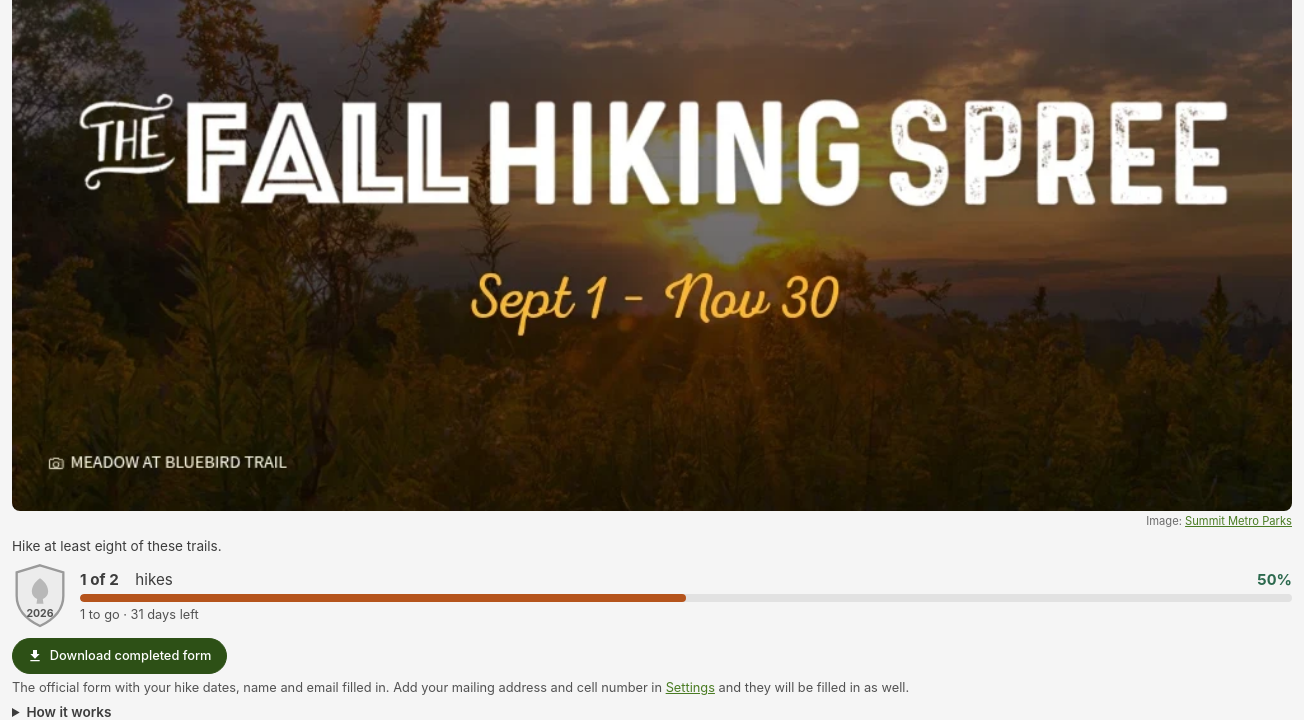
ListChallenge › the completed form › says so, and saves nothing, when earlier years cannot be loaded
(page scrolled)
What coordinates should you click on to do the following:
click the button "Download completed form"
I would click on:
 (119, 656)
Its box is [12,638,227,674].
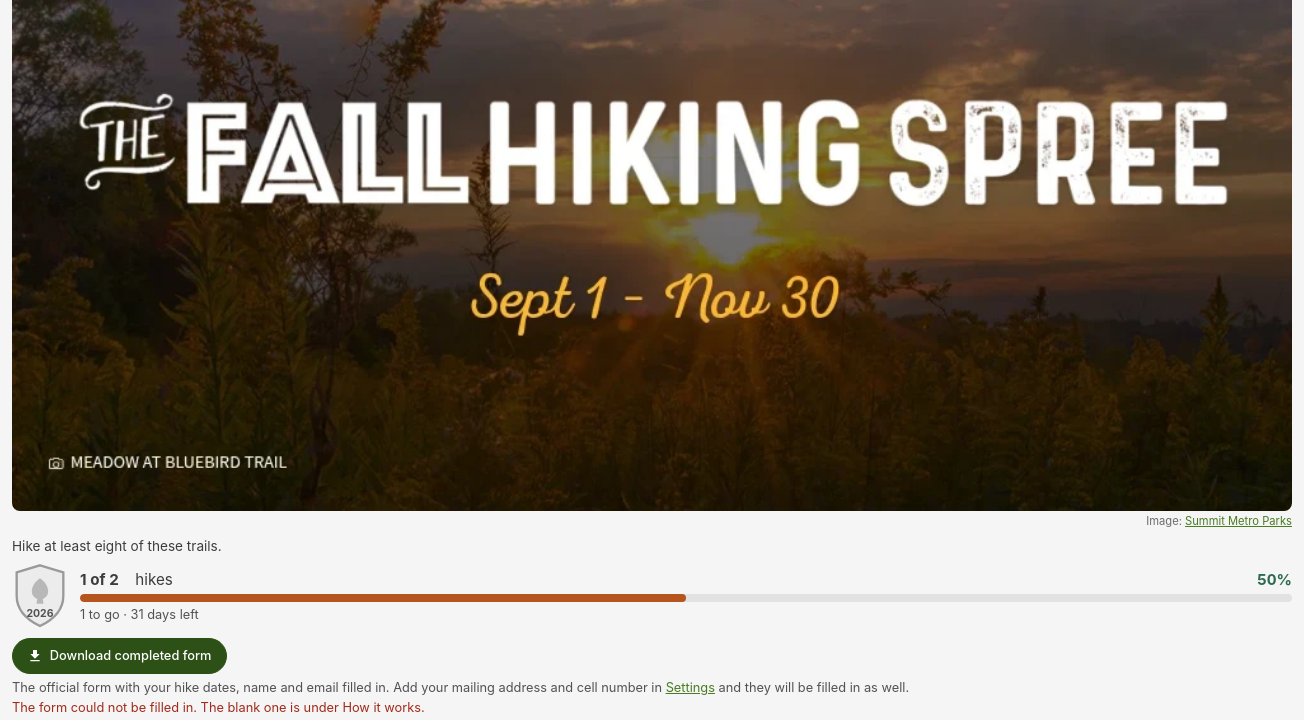
Expected: the message shows "could not be filled in", [12,700,425,715]
